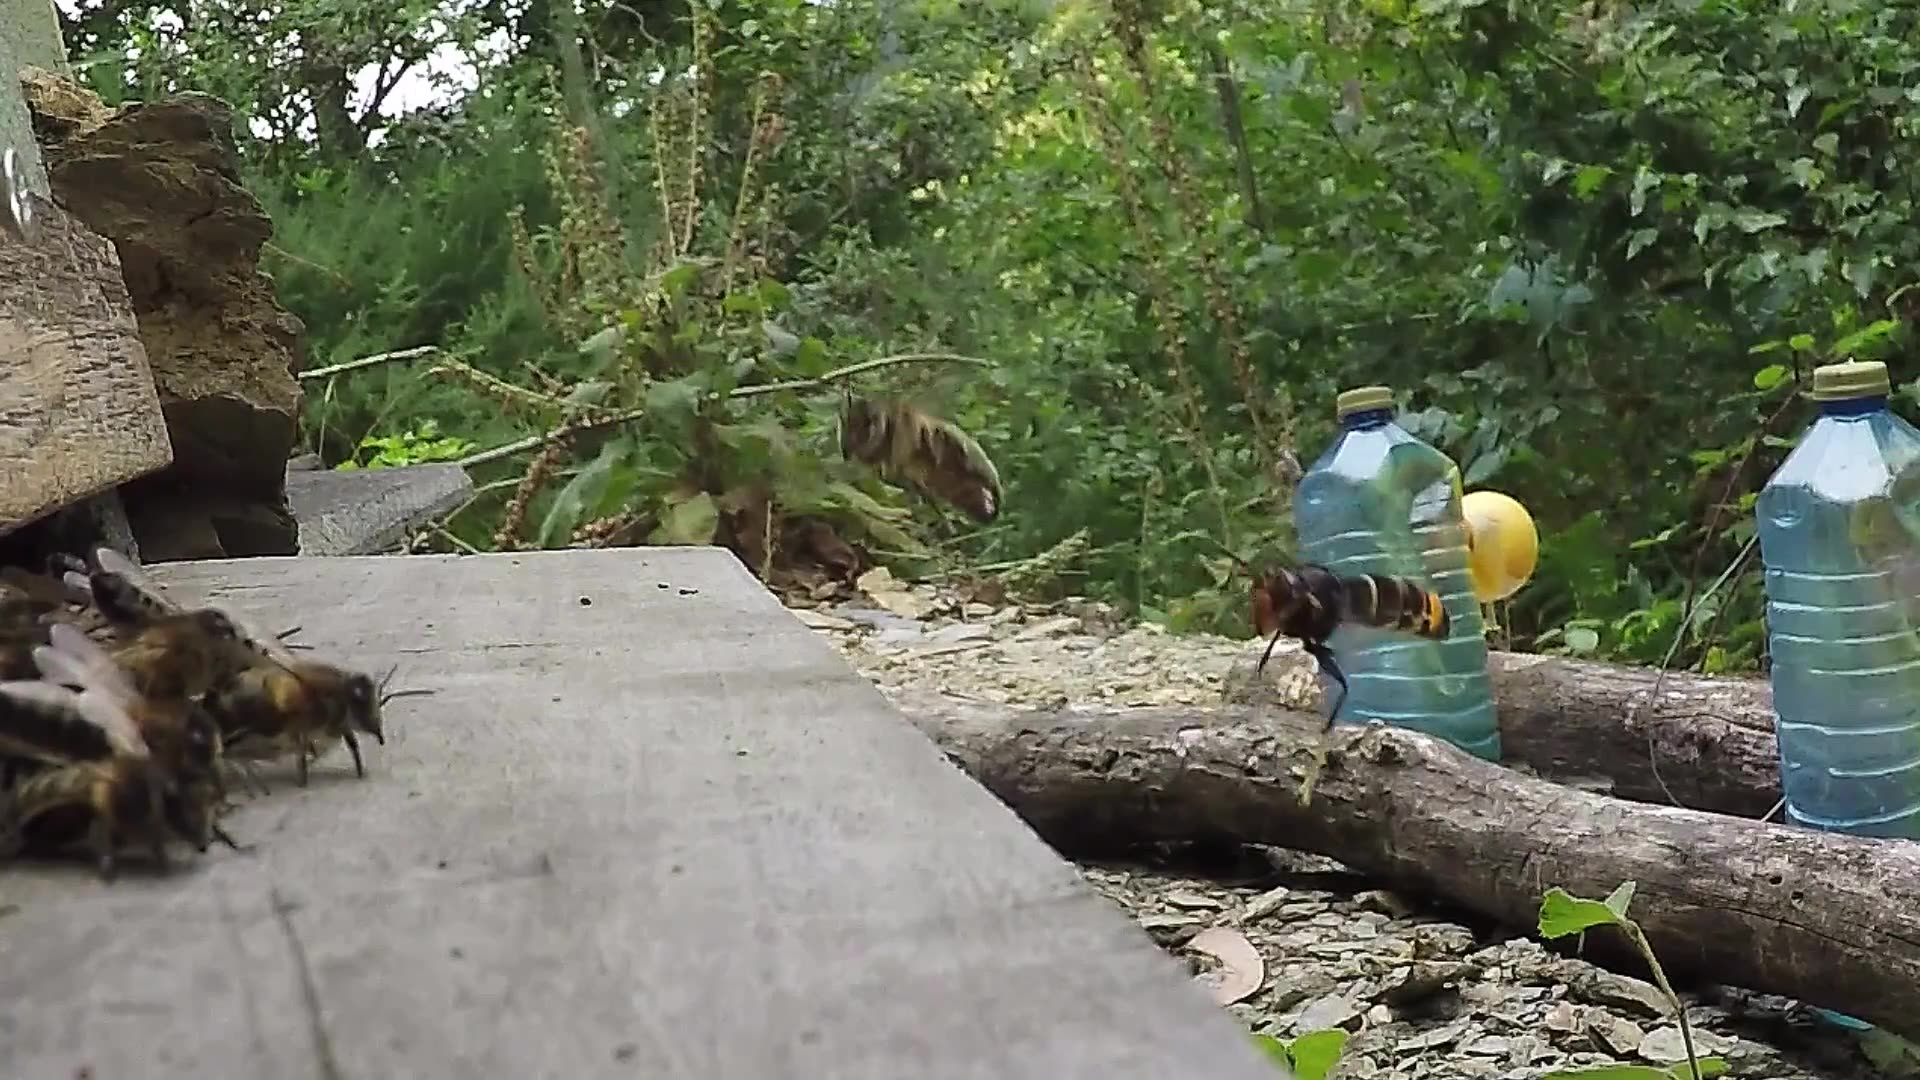bee: (1, 539, 389, 886), (822, 382, 1021, 538)
hornet: (1238, 551, 1461, 674)
